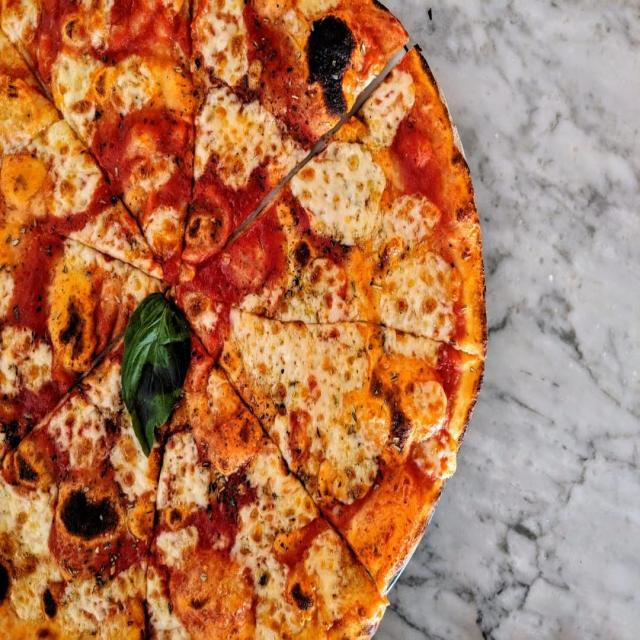basil: (118, 286, 195, 459)
pizza: (0, 0, 491, 640)
